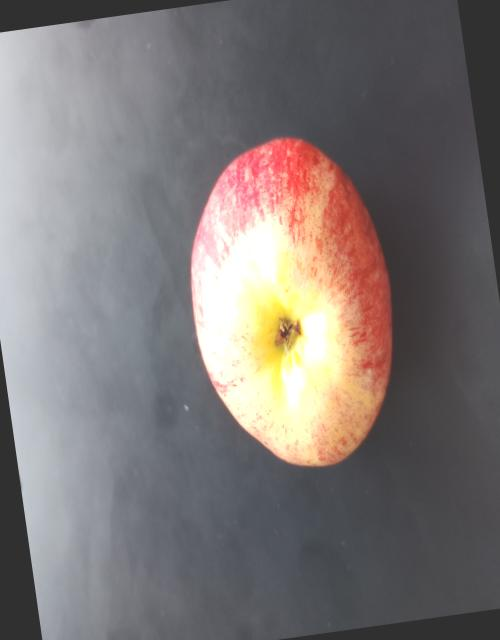Manzana: (159, 99, 428, 498)
